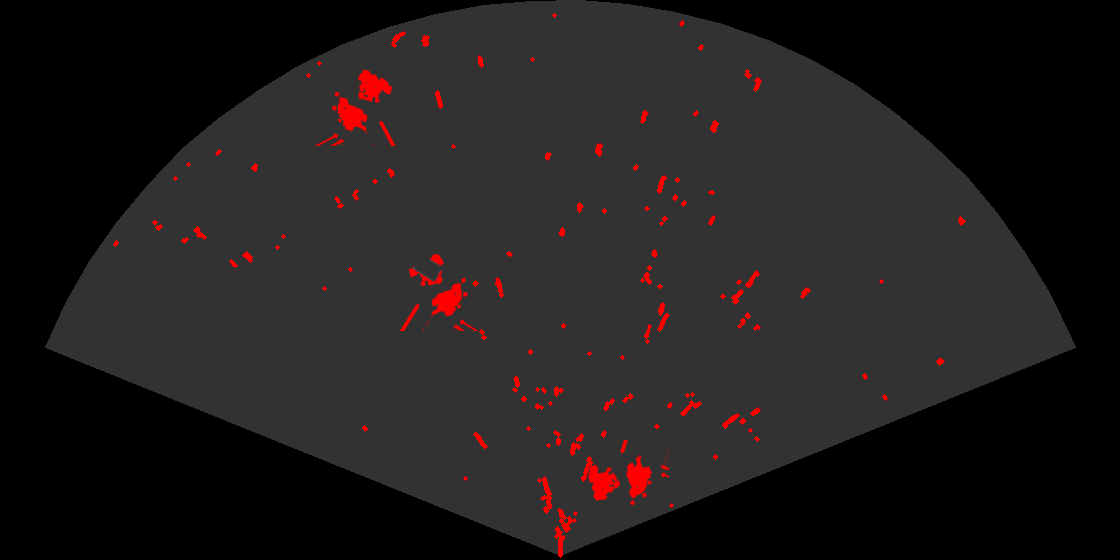cage: (314, 68, 397, 146), (398, 252, 479, 331), (587, 440, 669, 507)
